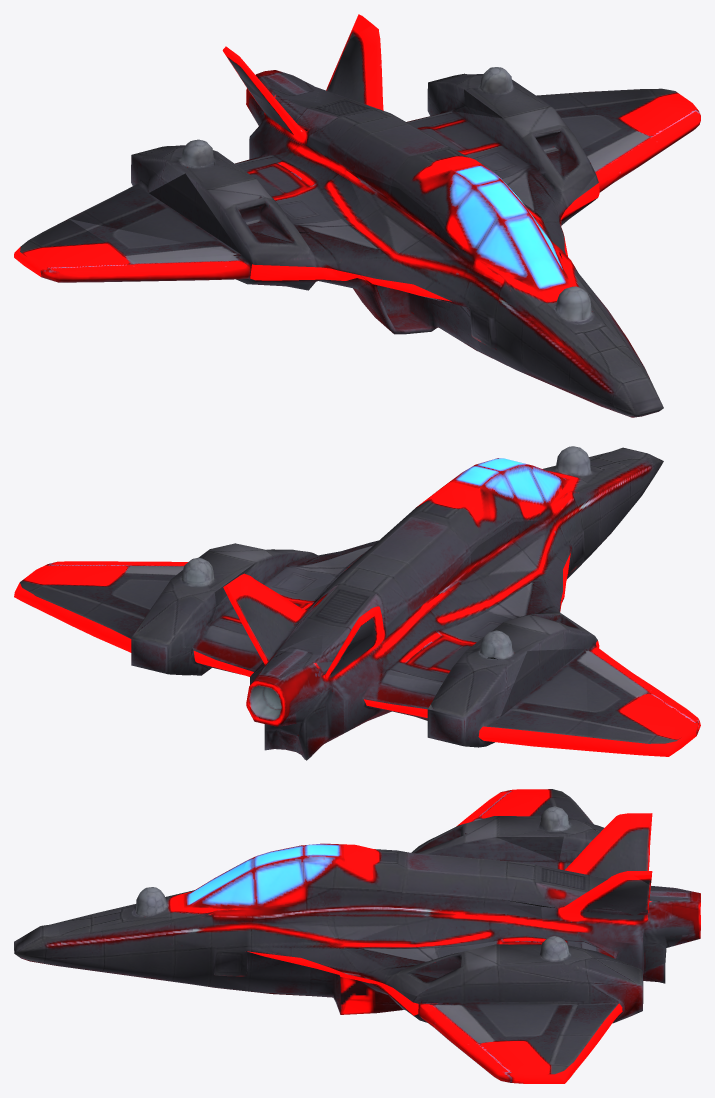
The model's file is plane-jet-enemy-2.glb.
The picture shows the model from 3 angles, top to bottom: view 1: azimuth 30°, elevation 25°; view 2: azimuth 150°, elevation 25°; view 3: azimuth 270°, elevation 25°; orthographic projection. The views are drawn at different scales.
Parts seen in each view (by area): view 1: plane_enemy; view 2: plane_enemy; view 3: plane_enemy.
Part boxes in pixels (<box>): plane_enemy: <box>14,14,700,417</box>; plane_enemy: <box>14,446,700,760</box>; plane_enemy: <box>14,789,700,1083</box>.
Bounding box in the file's own units: 2 × 0.471 × 2.03.
Materials: 1 (1 with a texture image).
